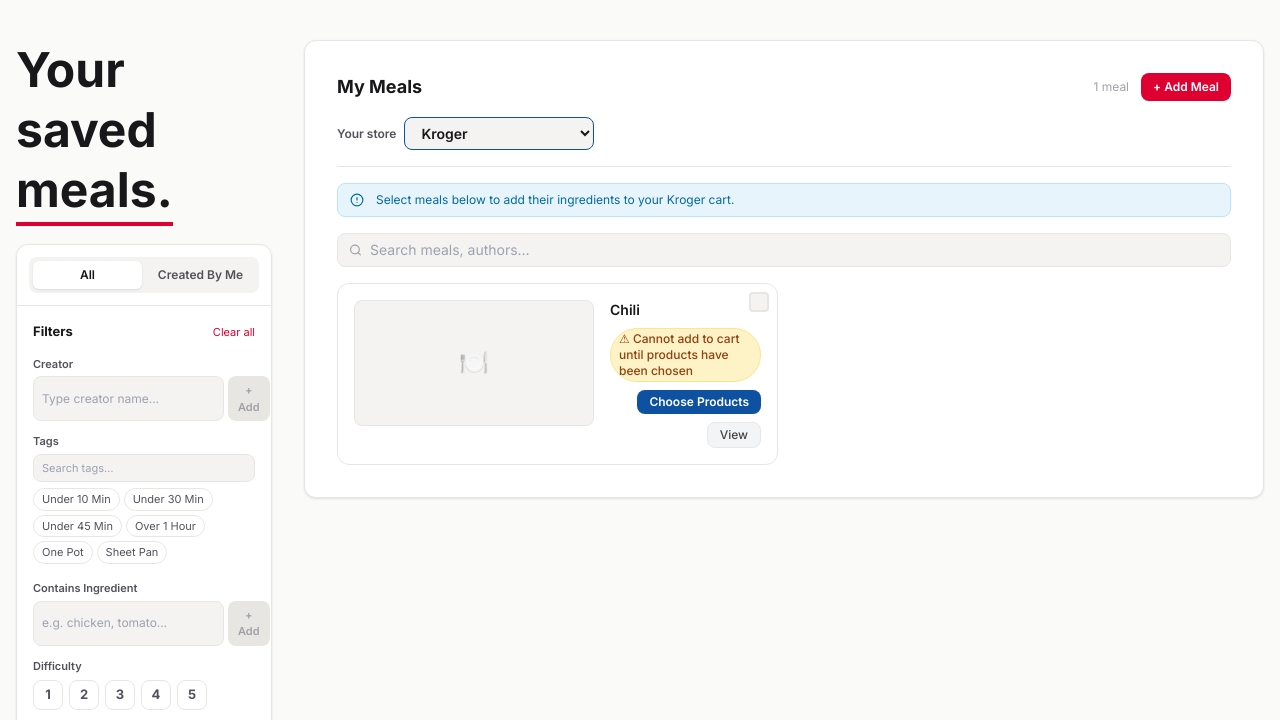
Test: an explanation for a search the user has replaced › shows one error, not two, when the re-search fails as well
Click the button "Choose Products": (699, 402) [637, 390, 761, 414]
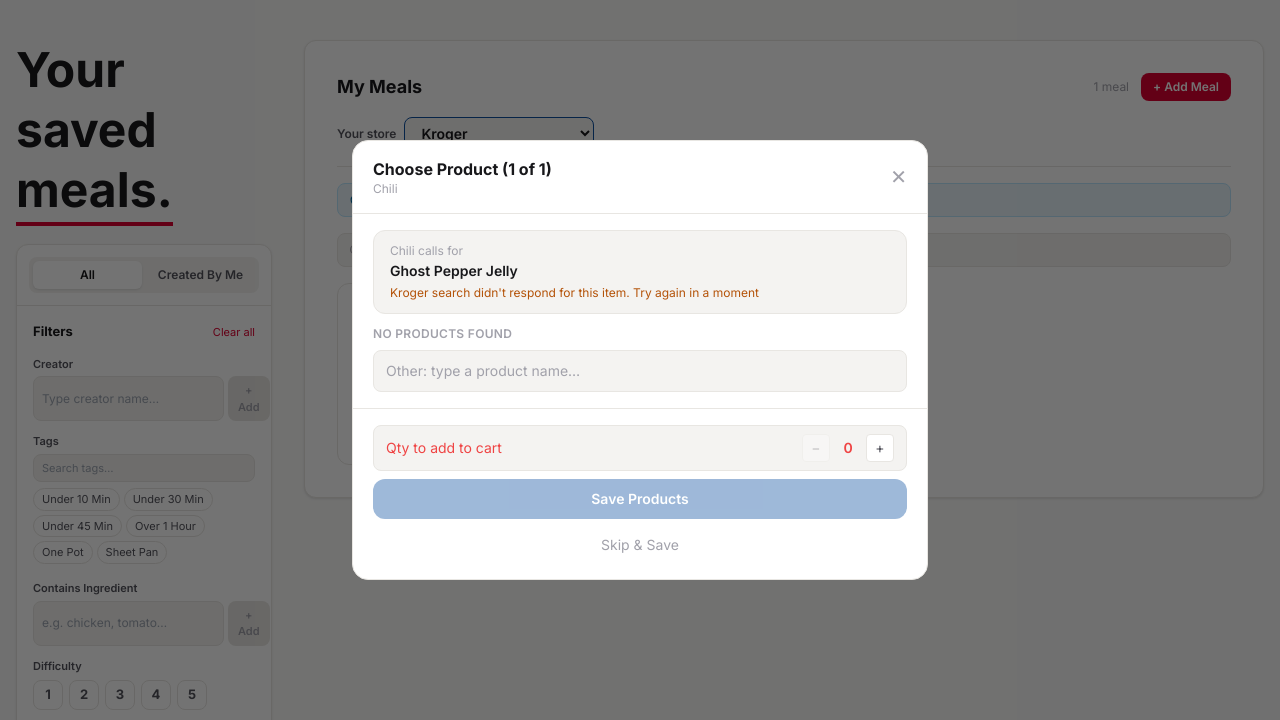
Expected: the heading "Choose Product (1 of 1)" is shown, [373, 157, 552, 181]
Expected: the text "search didn't respond for this item" is shown, [428, 285, 759, 300]
Click the button "Other: type a product name…": (483, 370) [373, 350, 907, 392]
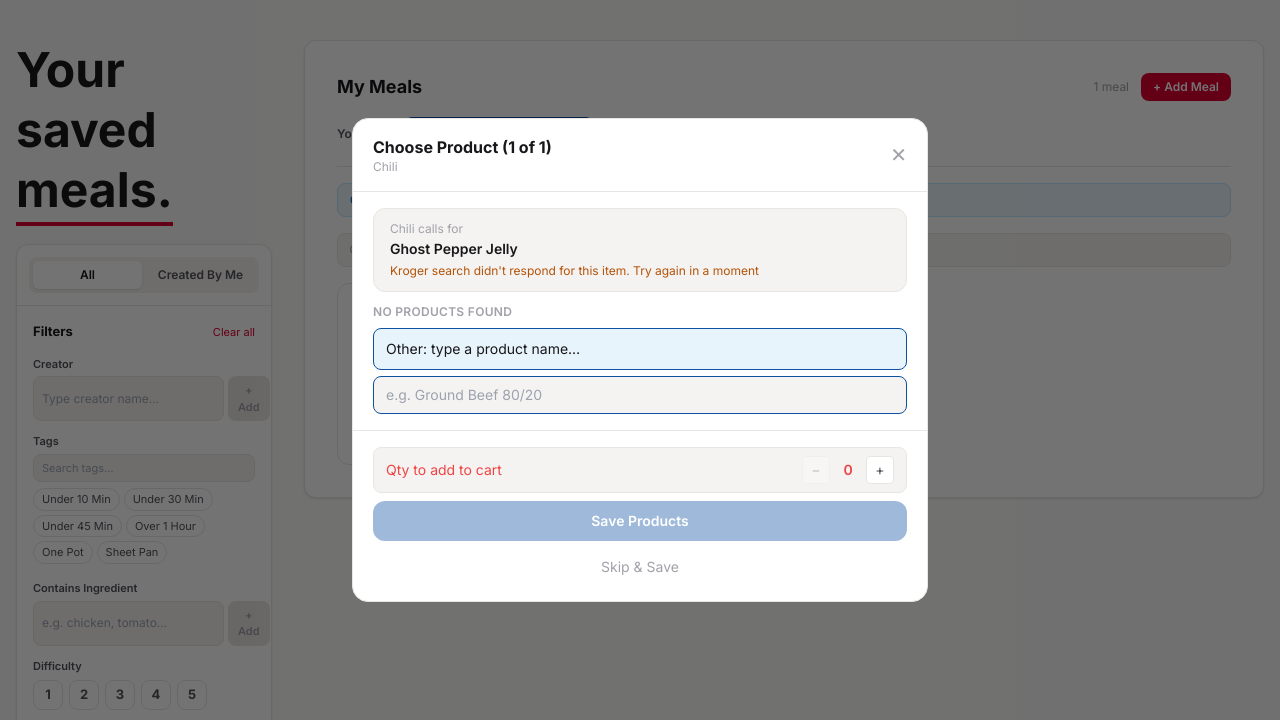
In the field with placeholder "e.g. Ground Beef 80/20": (640, 395) [373, 376, 907, 414], type "pepper jelly"
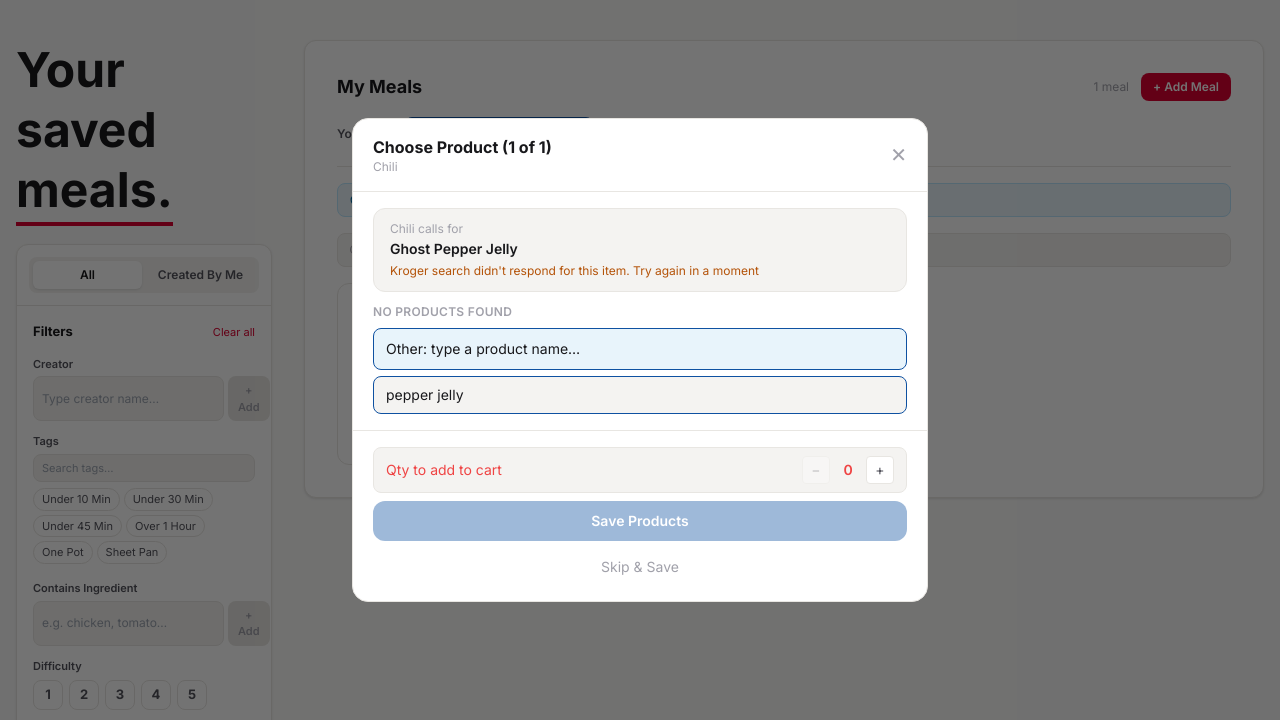
Click the button "+": (880, 470) [866, 456, 894, 484]
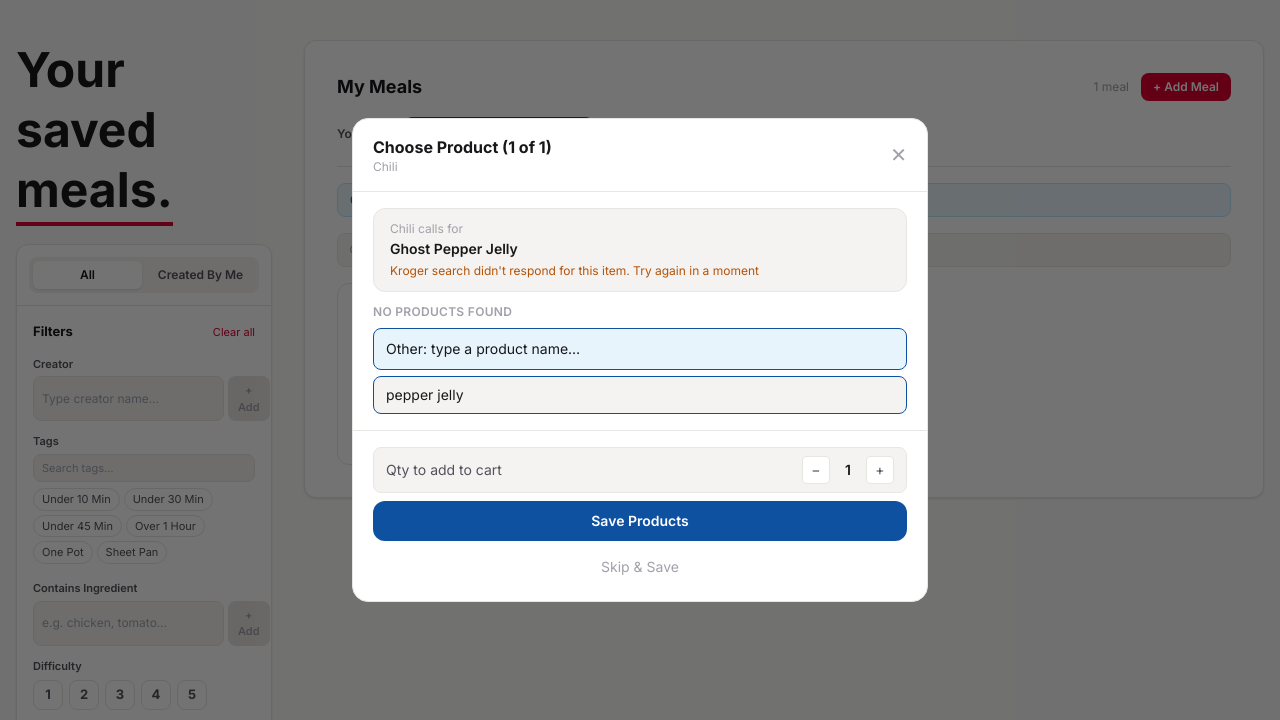
Click the button "Save Products": (640, 521) [373, 501, 907, 541]
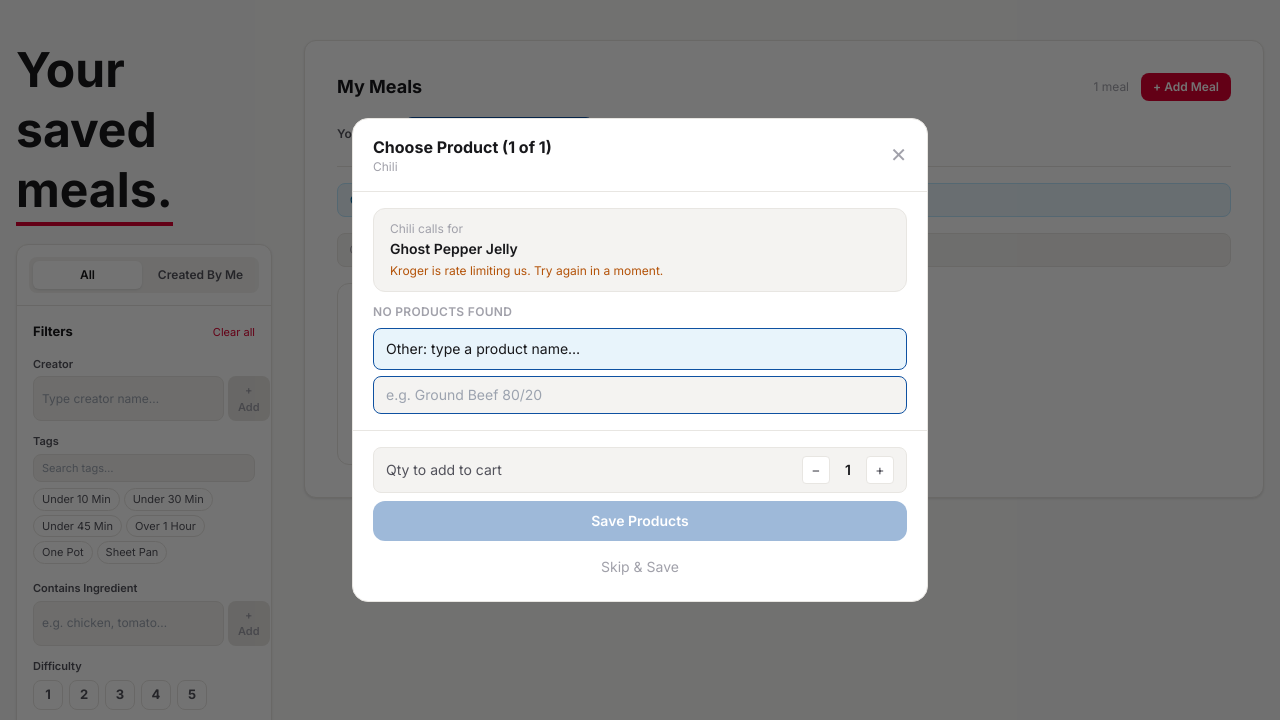
Expected: the text "Kroger is rate limiting us. Try again in a moment." is shown, [390, 263, 663, 278]
Expected: the text "search didn't respond for this item" is gone
